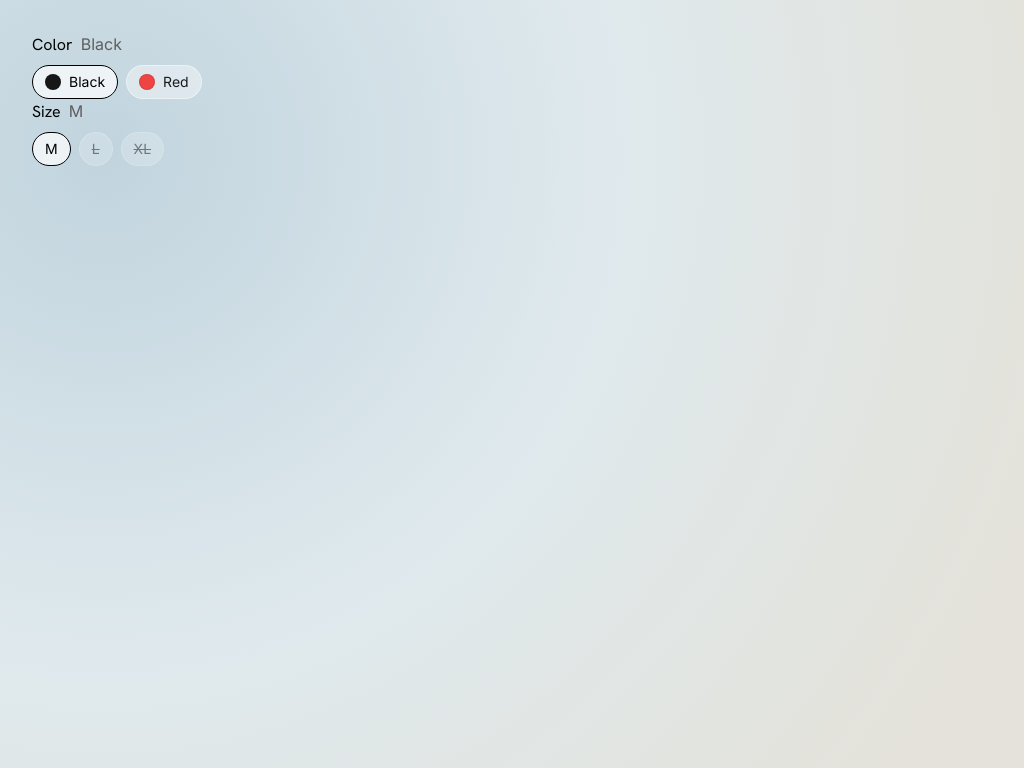
Test: VariantOptionPicker › never blocks a colour by the size chosen below it
Step 1. Click the button "Red" → (164, 82), box [126,65,202,99]
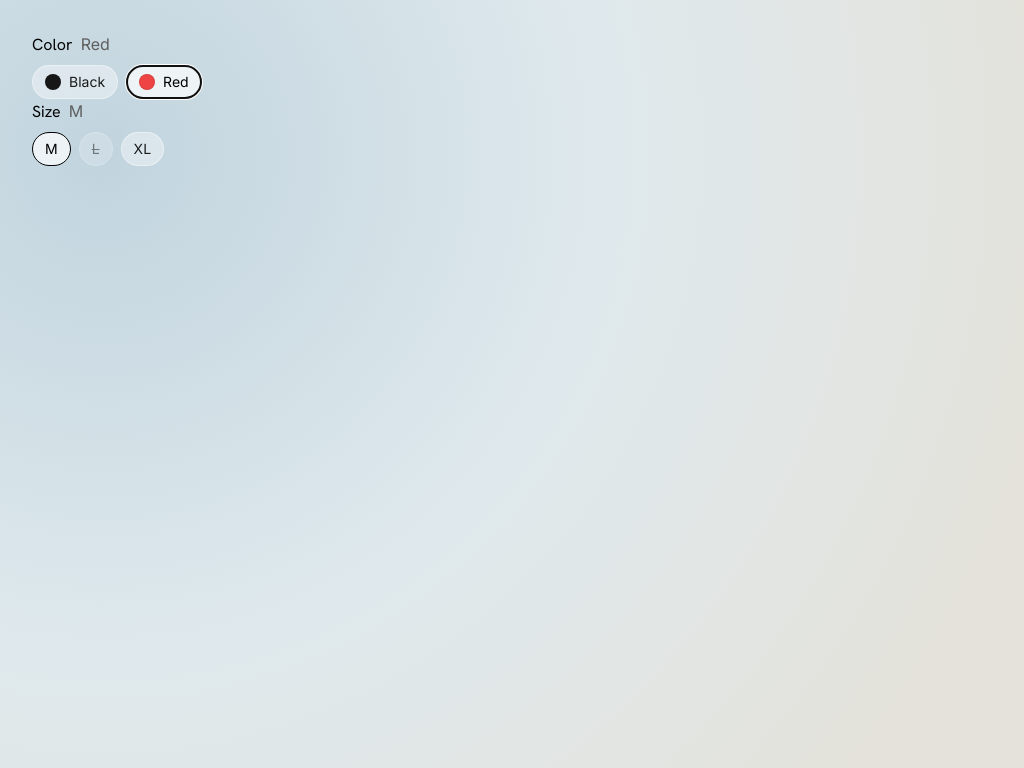
Step 2. Click the button "XL" → (142, 149), box [121,132,164,166]
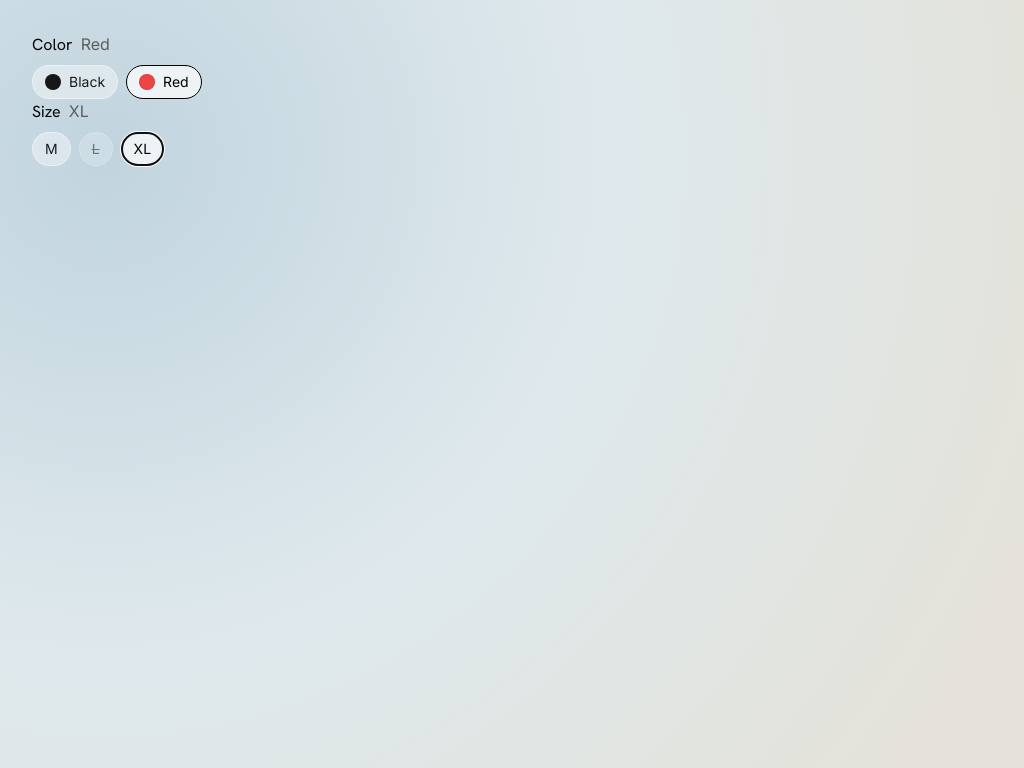
Note: There is no black XL, but Black stays choosable and moves to a black size.
Step 3. Click the button "Black" → (75, 82), box [32,65,118,99]
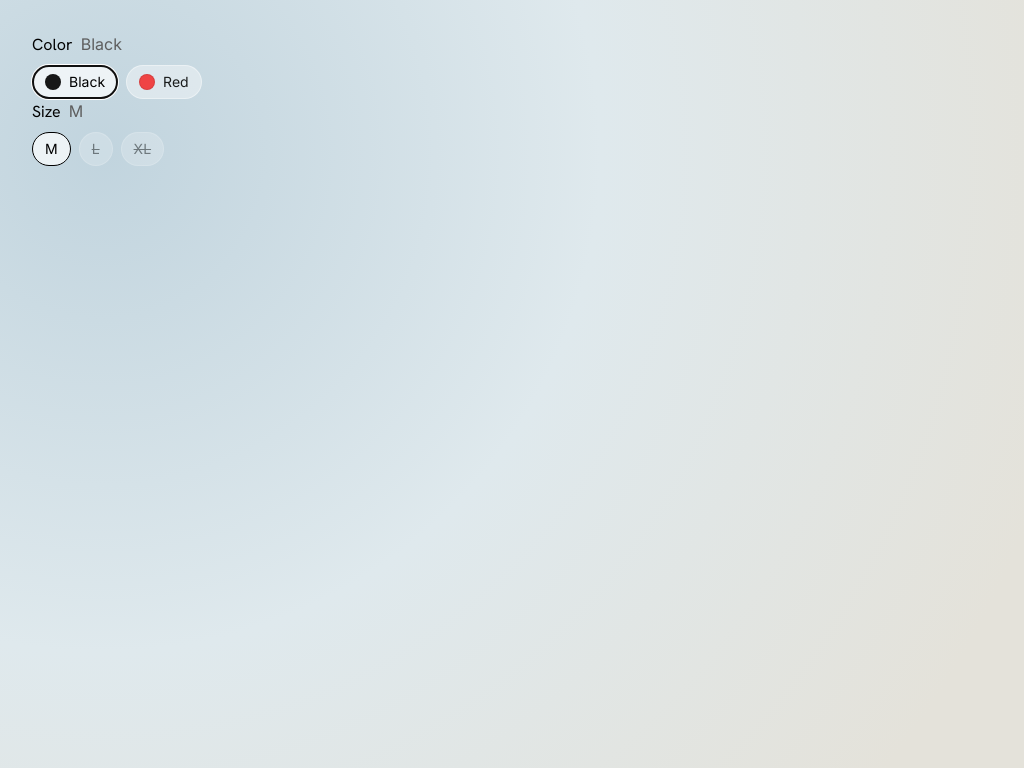
Expected: the element "Color Black" is shown, [32,34,202,99]
Expected: the element "Size M" is shown, [32,101,164,166]
